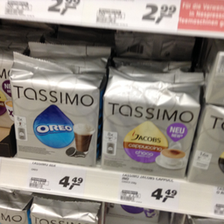coffee: (101, 59, 202, 178), (9, 50, 106, 167)
